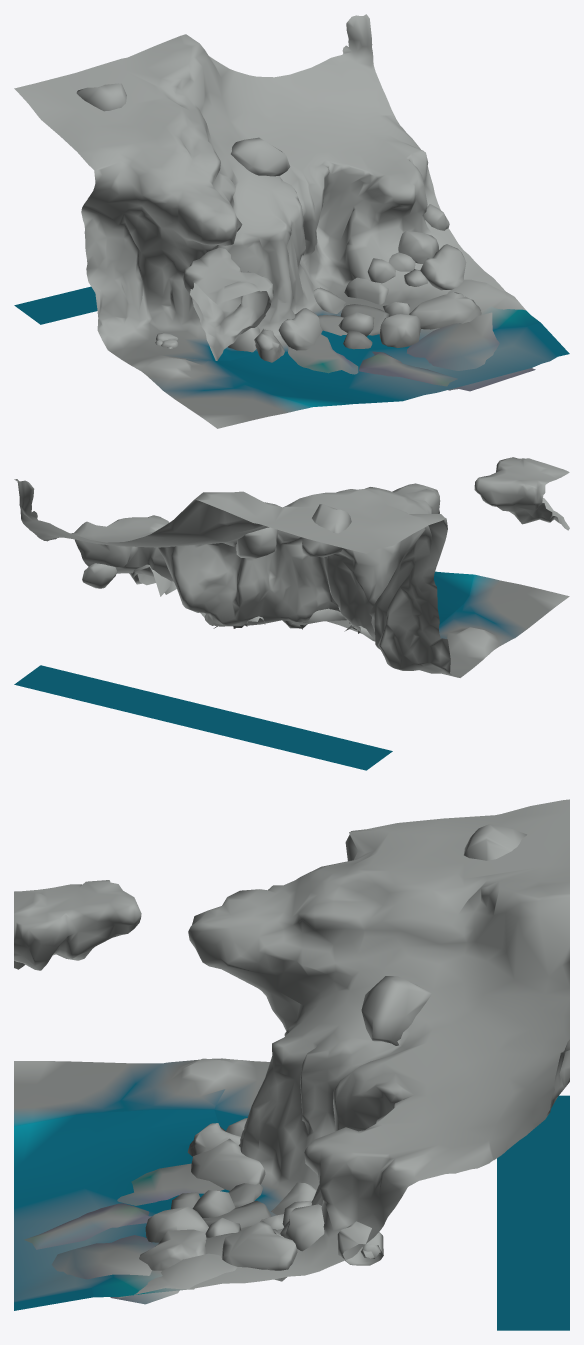
3 views of the same model, one above another, from view 1: azimuth 30°, elevation 25°; view 2: azimuth 150°, elevation 25°; view 3: azimuth 270°, elevation 25° (orthographic). The views are drawn at different scales.
Visible parts, largest first — view 1: G:\FFXIV-MapTools\exports\s1f3\bg\ffxiv\sea_s1\fld\s1f3\bgpl (×23); view 2: G:\FFXIV-MapTools\exports\s1f3\bg\ffxiv\sea_s1\fld\s1f3\bgpl (×16); view 3: G:\FFXIV-MapTools\exports\s1f3\bg\ffxiv\sea_s1\fld\s1f3\bgpl (×22).
Part boxes in pixels (x1,y1,x2,y2): G:\FFXIV-MapTools\exports\s1f3\bg\ffxiv\sea_s1\fld\s1f3\bgpl (×23): (14, 14, 569, 428); G:\FFXIV-MapTools\exports\s1f3\bg\ffxiv\sea_s1\fld\s1f3\bgpl (×16): (14, 457, 569, 770); G:\FFXIV-MapTools\exports\s1f3\bg\ffxiv\sea_s1\fld\s1f3\bgpl (×22): (14, 799, 569, 1330).
Bounding box in the file's own units: 128 × 79.55 × 128.
